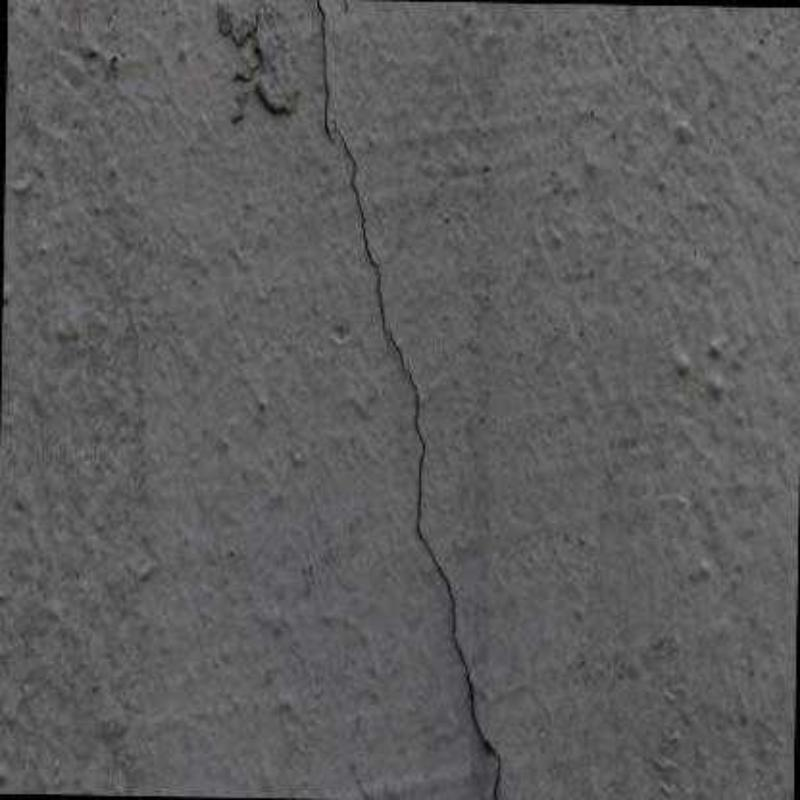crack: (335, 123, 501, 799), (316, 1, 334, 145)
